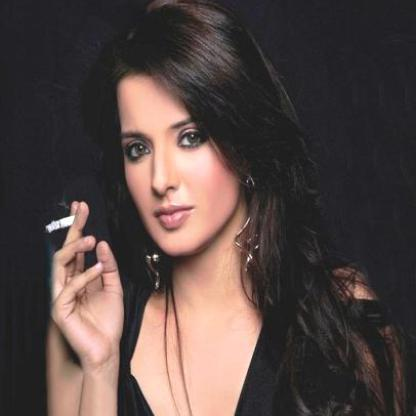cigarette: (42, 211, 82, 235)
person: (73, 12, 365, 415)
